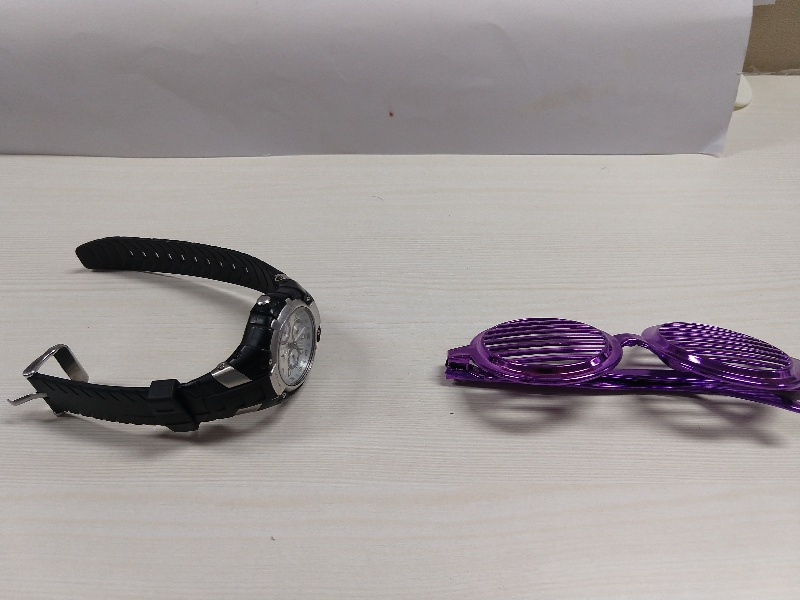shades: (429, 294, 800, 422)
watch: (6, 226, 343, 434)
